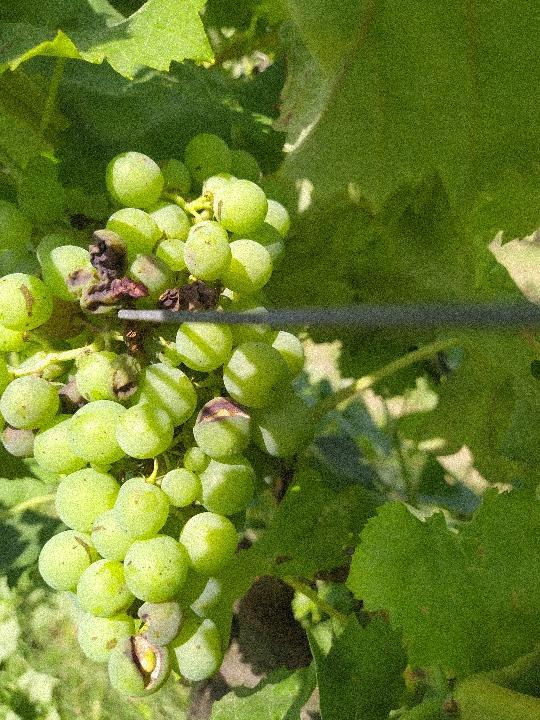grape: (3, 130, 319, 701)
